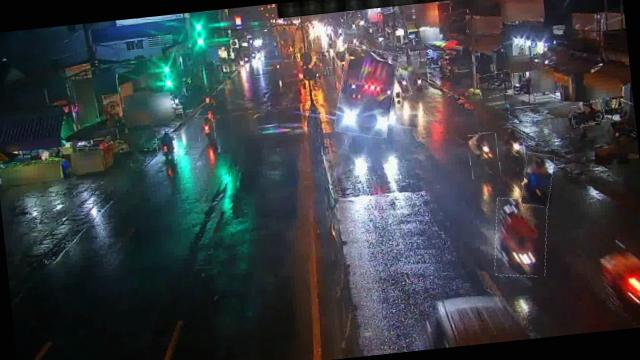Bike: (490, 195, 552, 280), (518, 151, 556, 208), (468, 132, 502, 180), (477, 72, 513, 98), (570, 100, 605, 126), (502, 125, 525, 162), (156, 132, 178, 166), (413, 67, 430, 97), (197, 116, 216, 142), (396, 71, 412, 97)
Truck: (332, 44, 402, 140)
